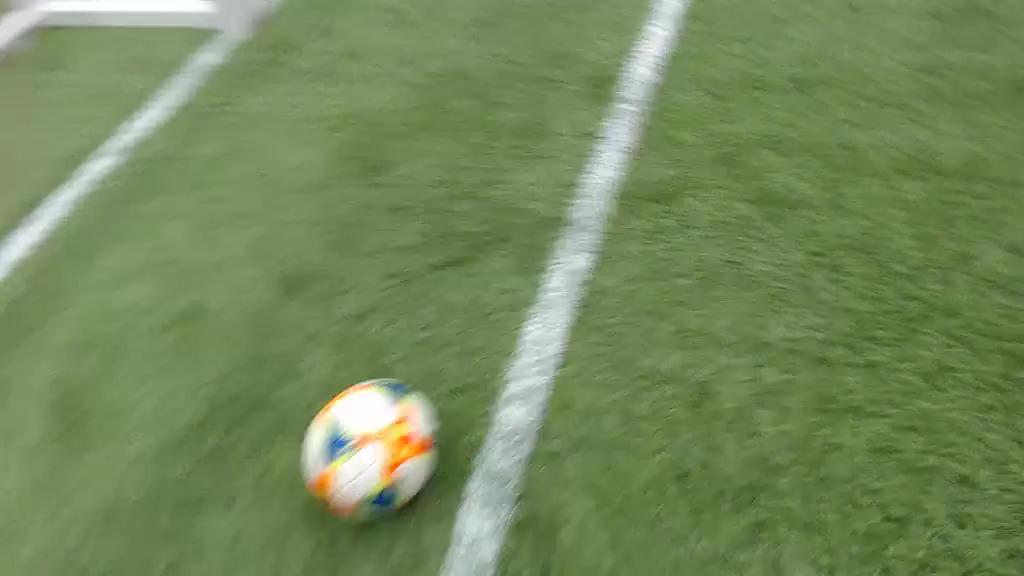ball: (283, 370, 464, 534)
